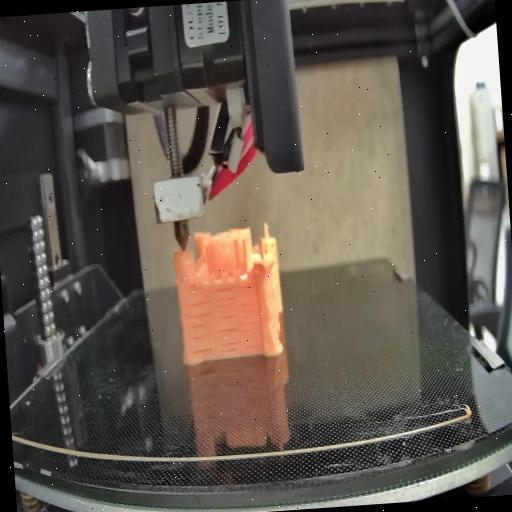cracks: (184, 298, 218, 354), (240, 300, 266, 352), (214, 284, 238, 320), (218, 324, 240, 352), (238, 282, 256, 292)
